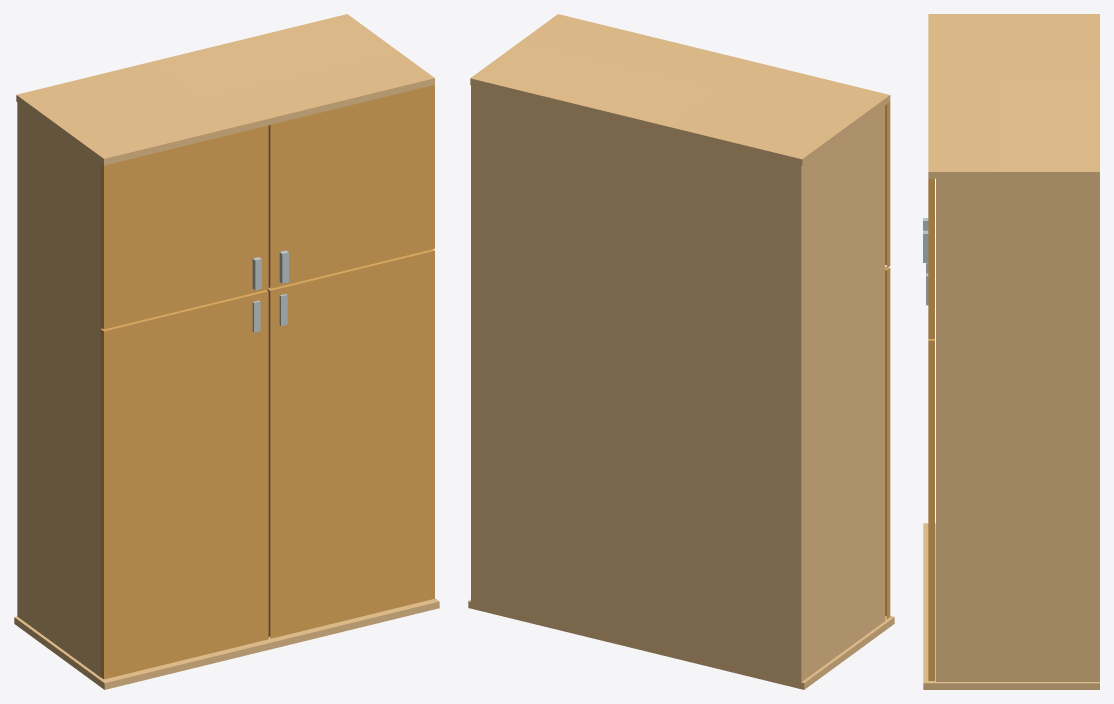
File: closet_024.glb
3 views of the same model, side by side, from view 1: azimuth 30°, elevation 25°; view 2: azimuth 150°, elevation 25°; view 3: azimuth 270°, elevation 25° (orthographic). The views are drawn at different scales.
Visible parts, largest first — view 1: closet_024; view 2: closet_024; view 3: closet_024.
Part boxes in pixels (x1,y1,x2,y2): closet_024: (14,14,439,689); closet_024: (468,14,894,689); closet_024: (923,14,1099,689).
Bounding box in the file's own units: 1.35 × 2.03 × 0.6291.
Materials: 1 (1 with a texture image).
